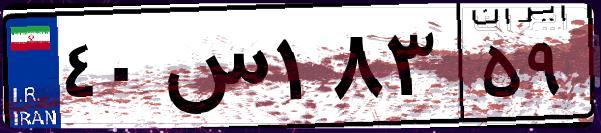0: (110, 28, 158, 98)
1: (270, 28, 330, 110)
3: (385, 28, 445, 110)
4: (57, 26, 110, 100)
5: (475, 38, 525, 113)
8: (330, 28, 385, 110)
9: (525, 38, 570, 115)
س: (158, 20, 270, 120)
